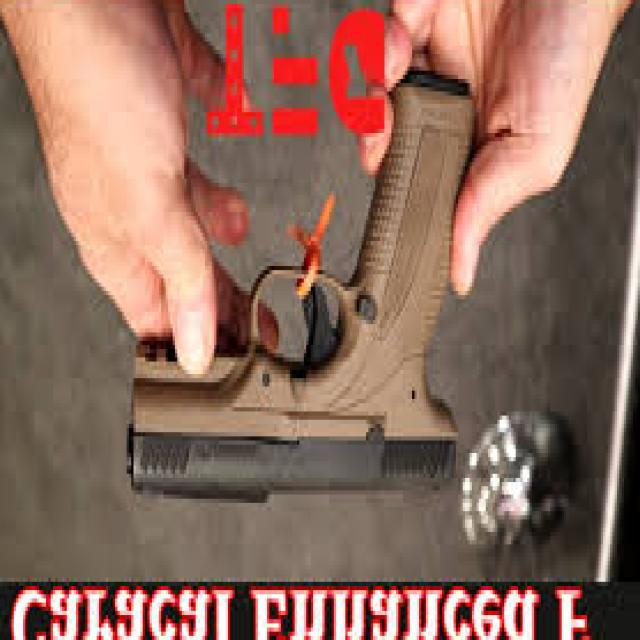Gun: (119, 36, 487, 516)
